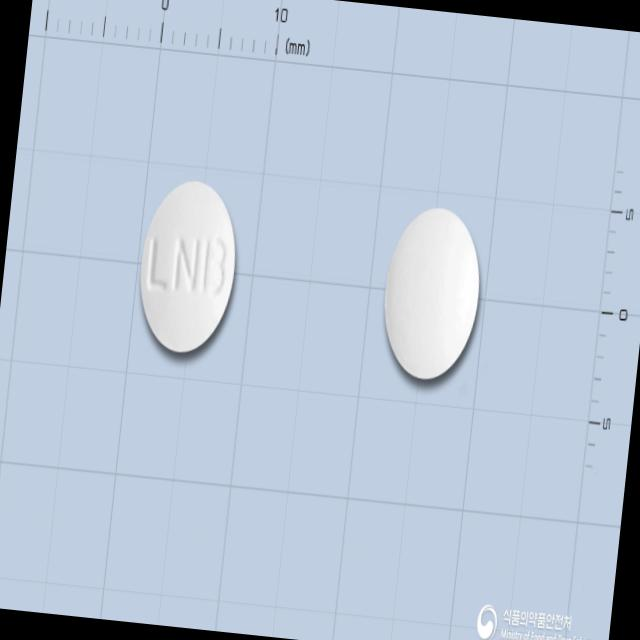Lenovo: (133, 174, 245, 358)
